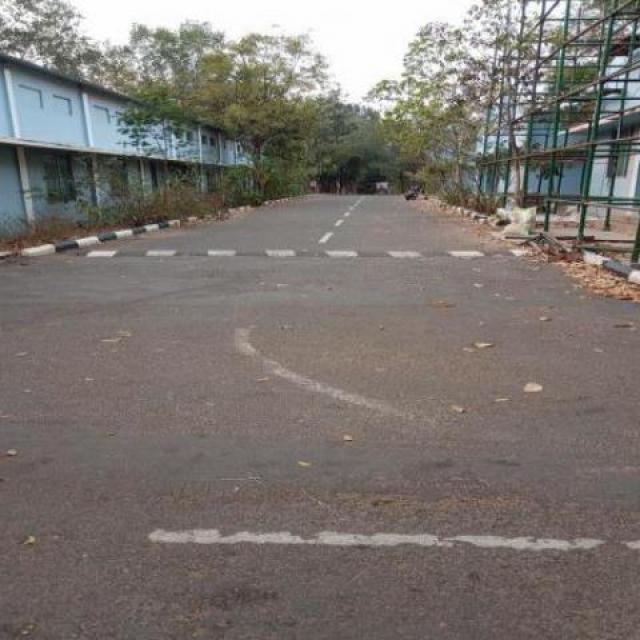Speed Bump: (48, 244, 555, 263)
